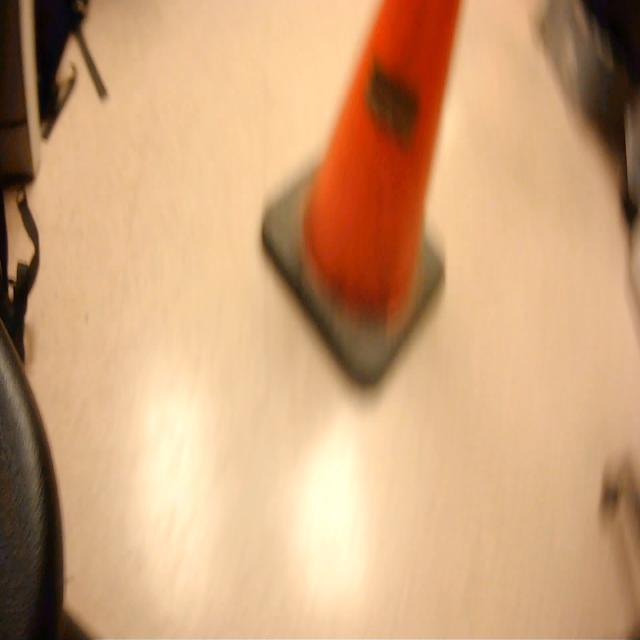traffic cone: (259, 1, 473, 394)
